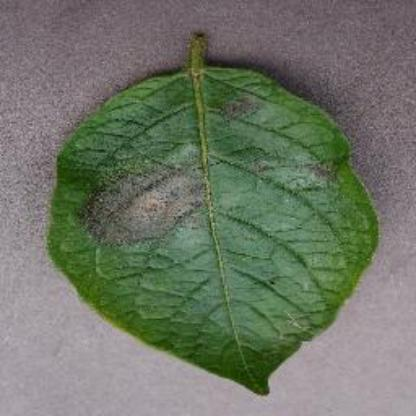Late-Blight: (32, 14, 395, 402)
